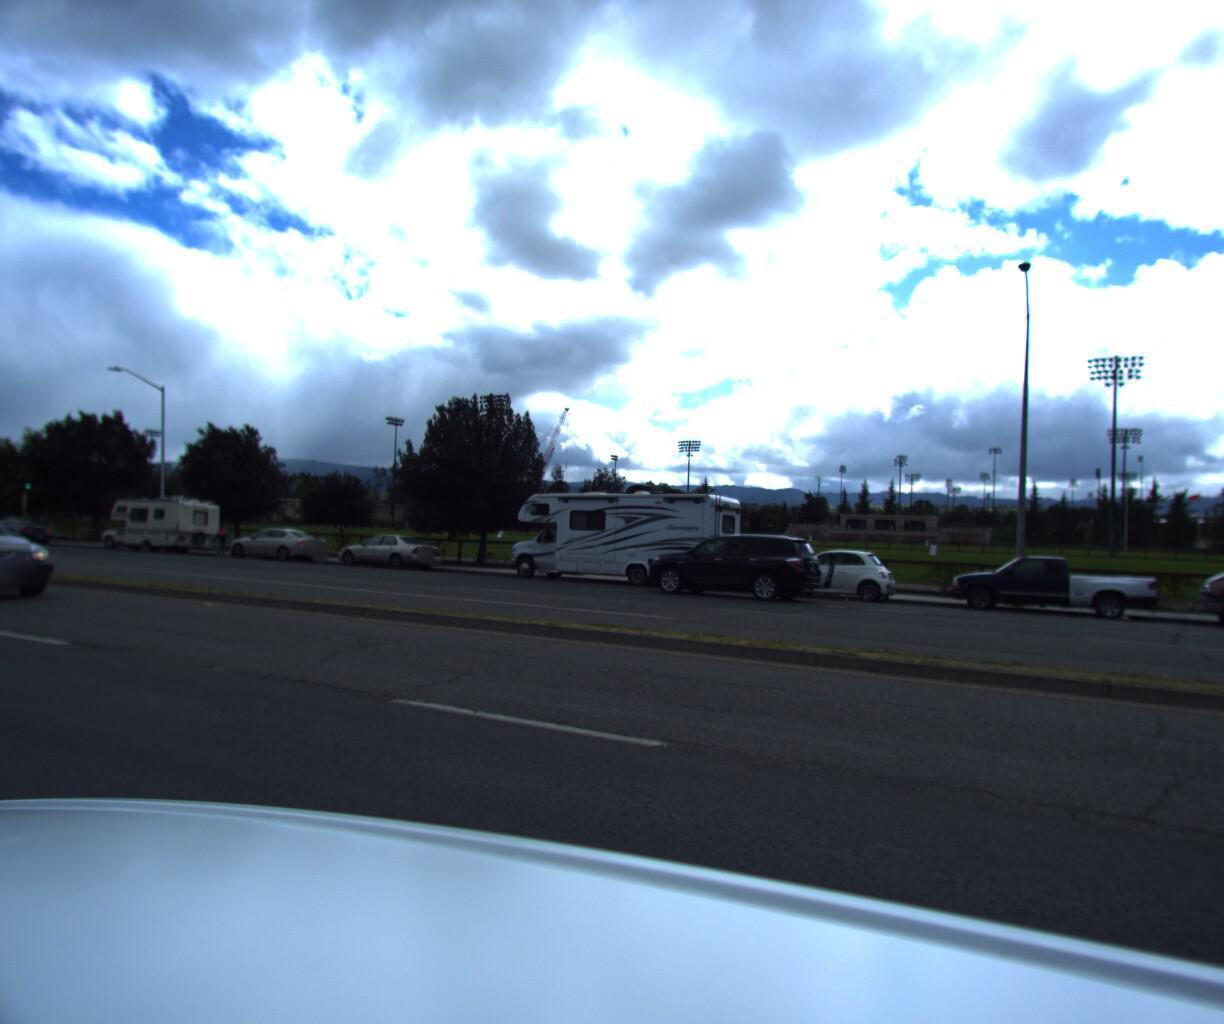car: (638, 527, 856, 608), (941, 551, 1165, 629), (0, 493, 81, 610), (762, 545, 904, 610), (325, 532, 450, 575), (217, 526, 336, 567), (1181, 541, 1224, 650), (0, 518, 61, 548)
other_vehicle: (488, 478, 751, 596), (89, 494, 230, 559)
